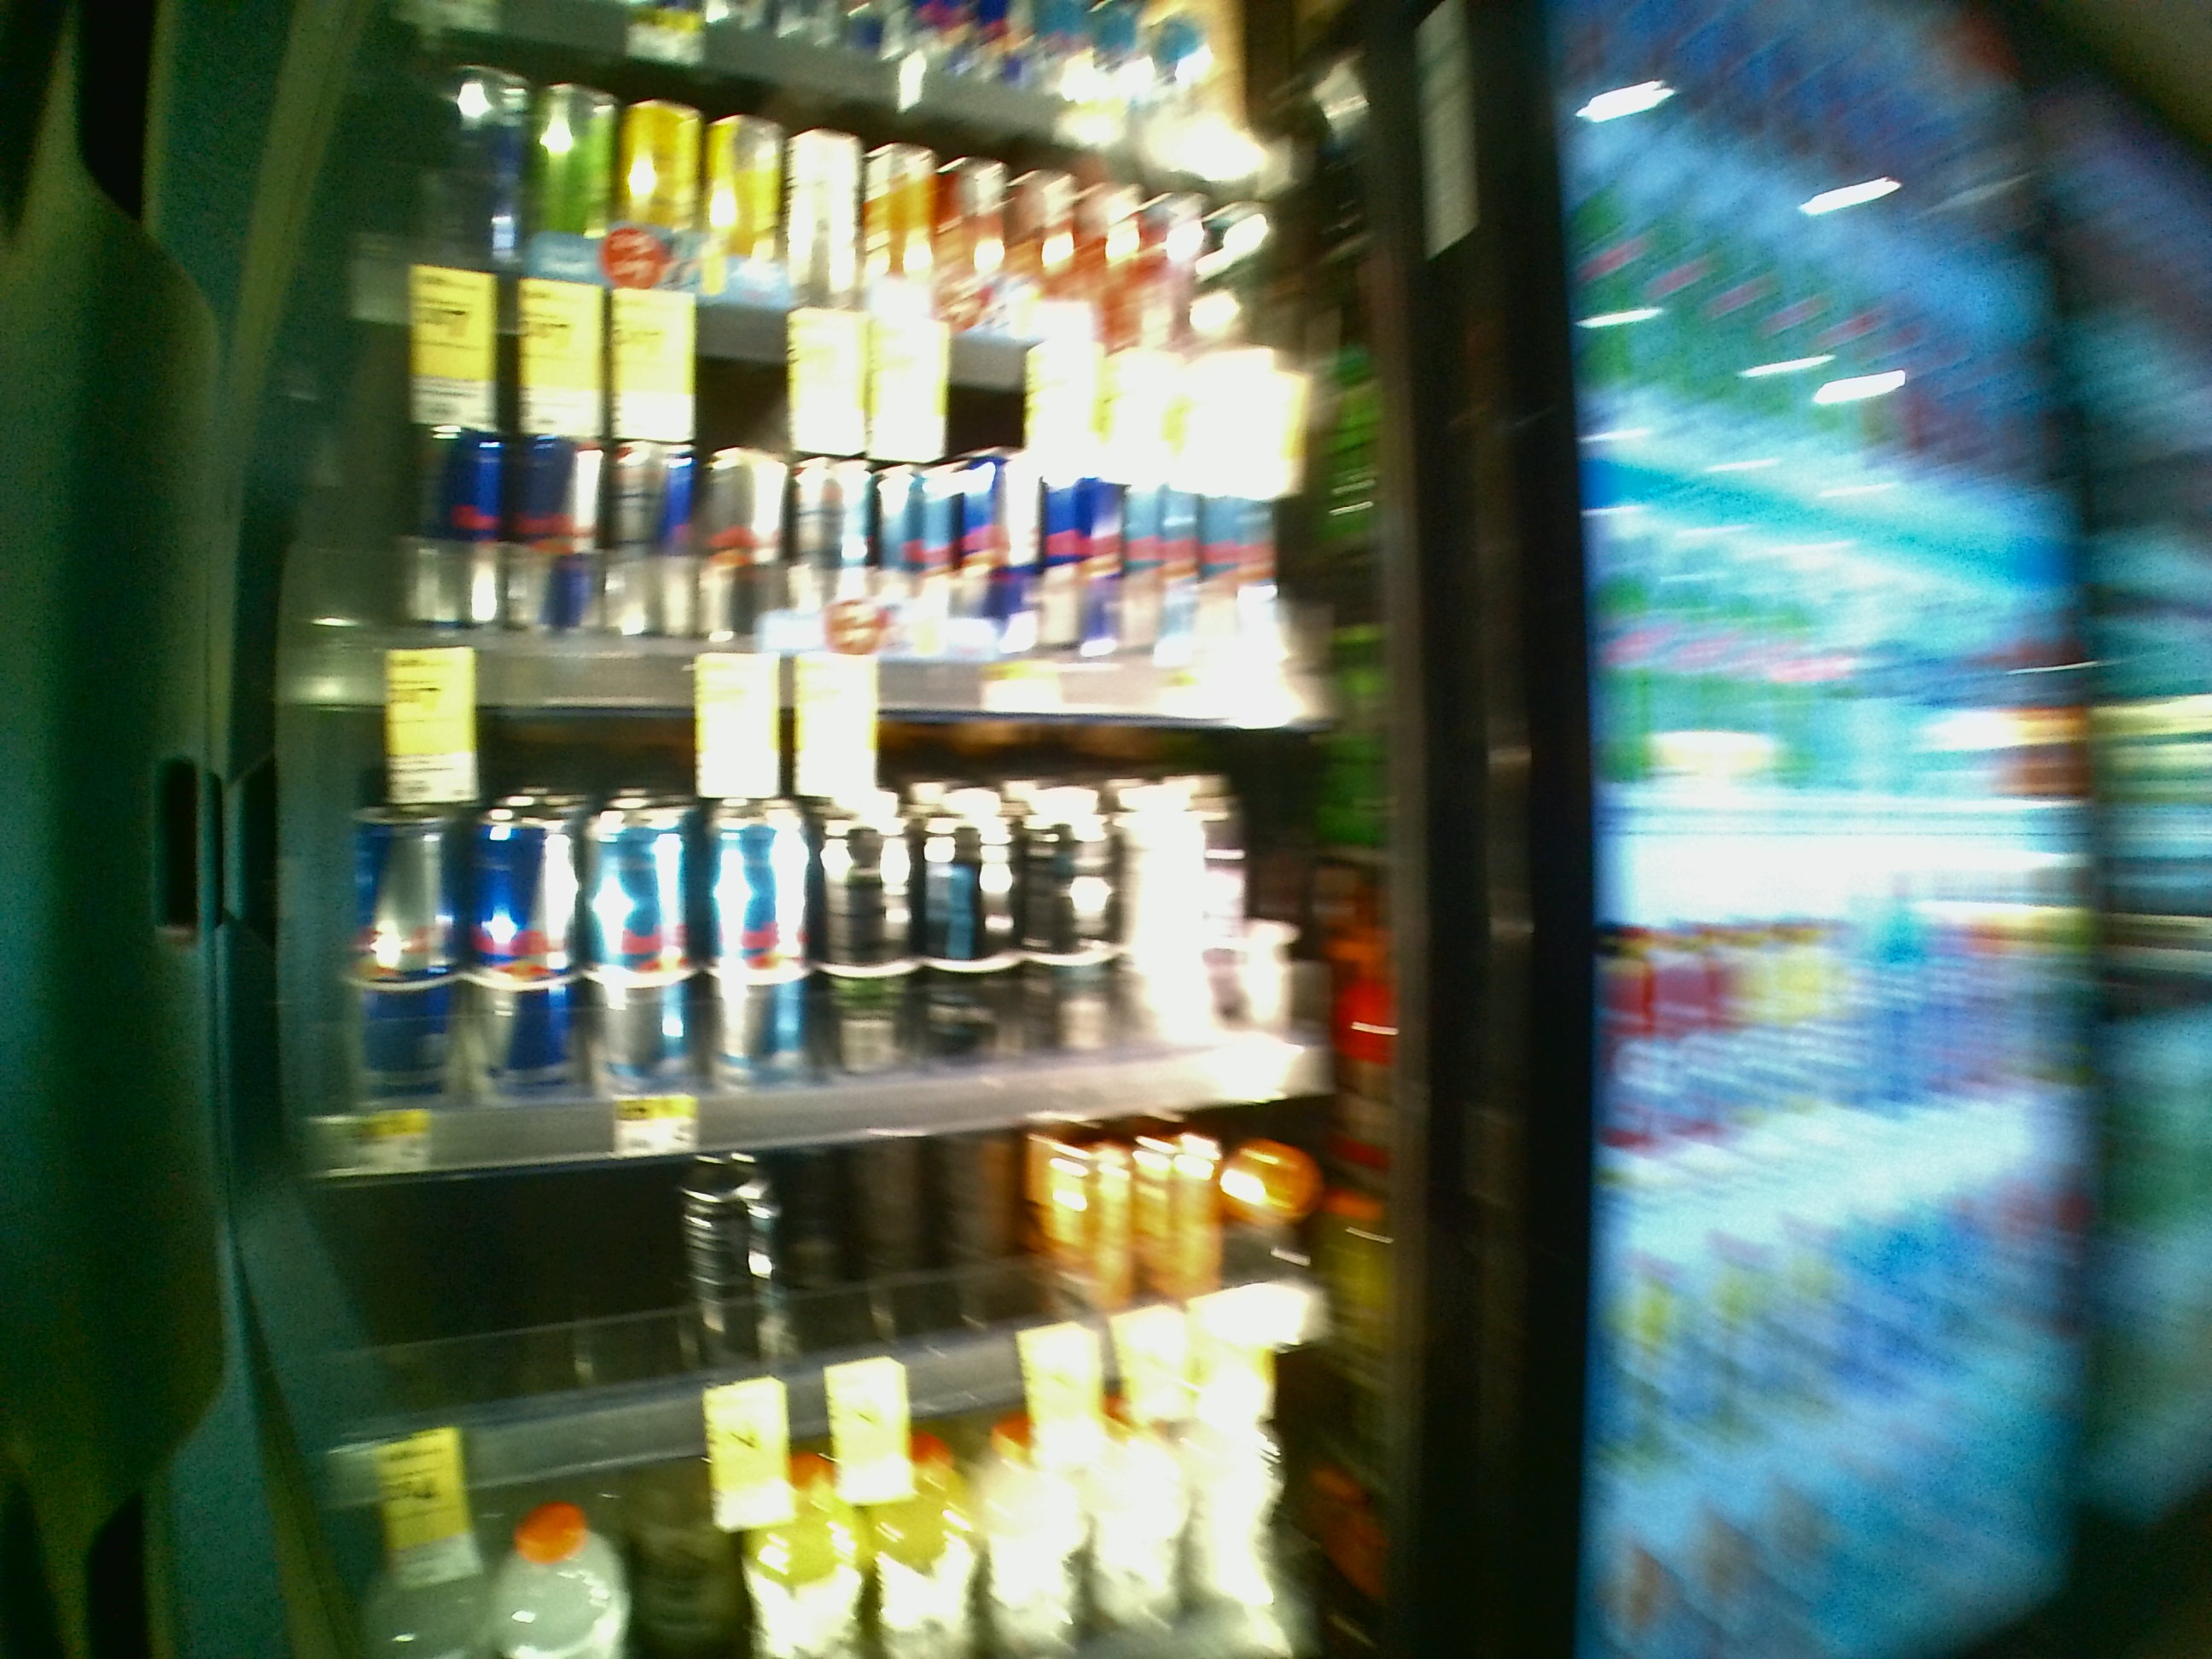shelf: (232, 683, 1449, 1119)
